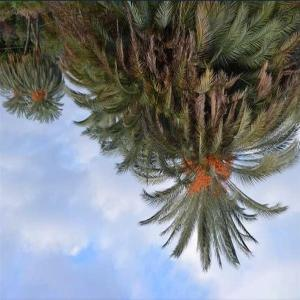palm tree: (1, 0, 299, 273)
